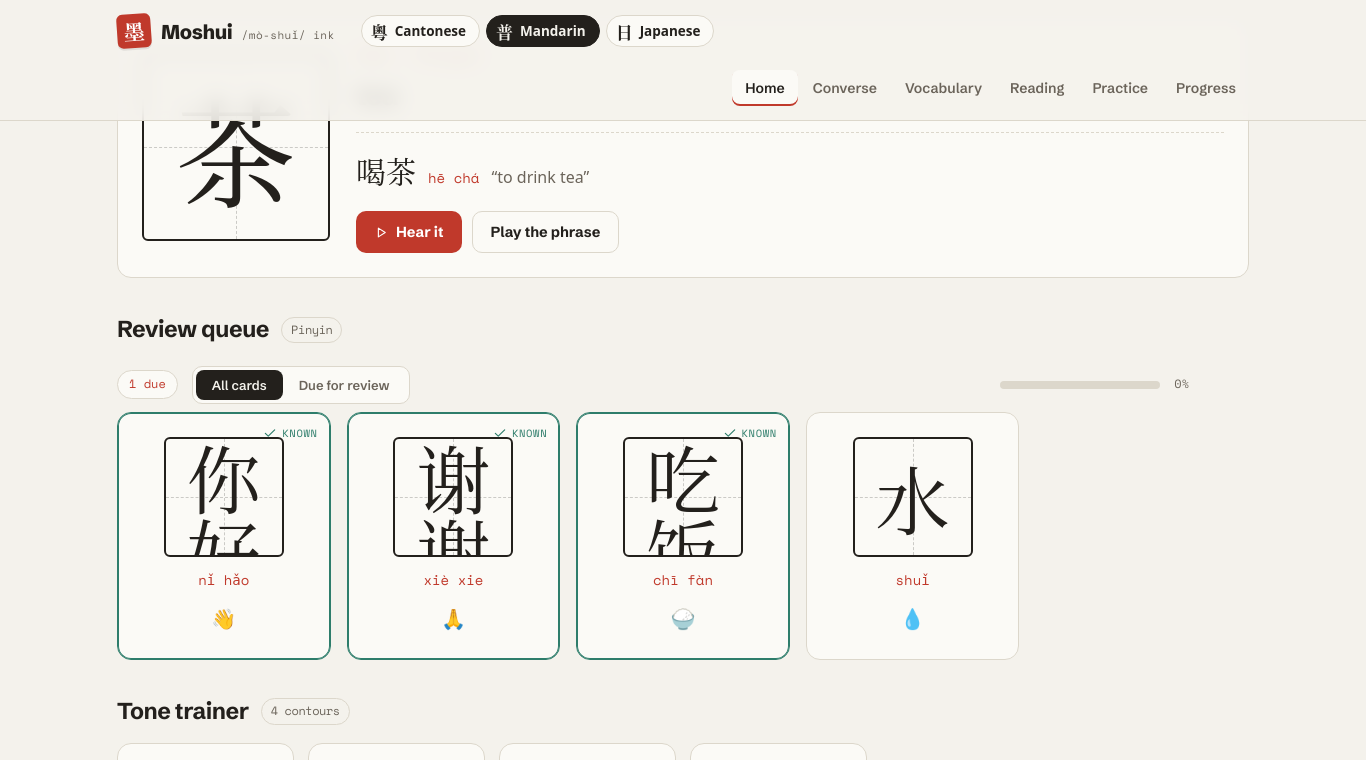
Test case: spaced repetition (T3) › hydrates Leitner boxes and surfaces only due cards in Review mode
(page scrolled)
Check: the text "1 due" is shown, box [117,370,178,399]
Click the button "Due for review".
click(344, 385)  # box [283,370,406,400]
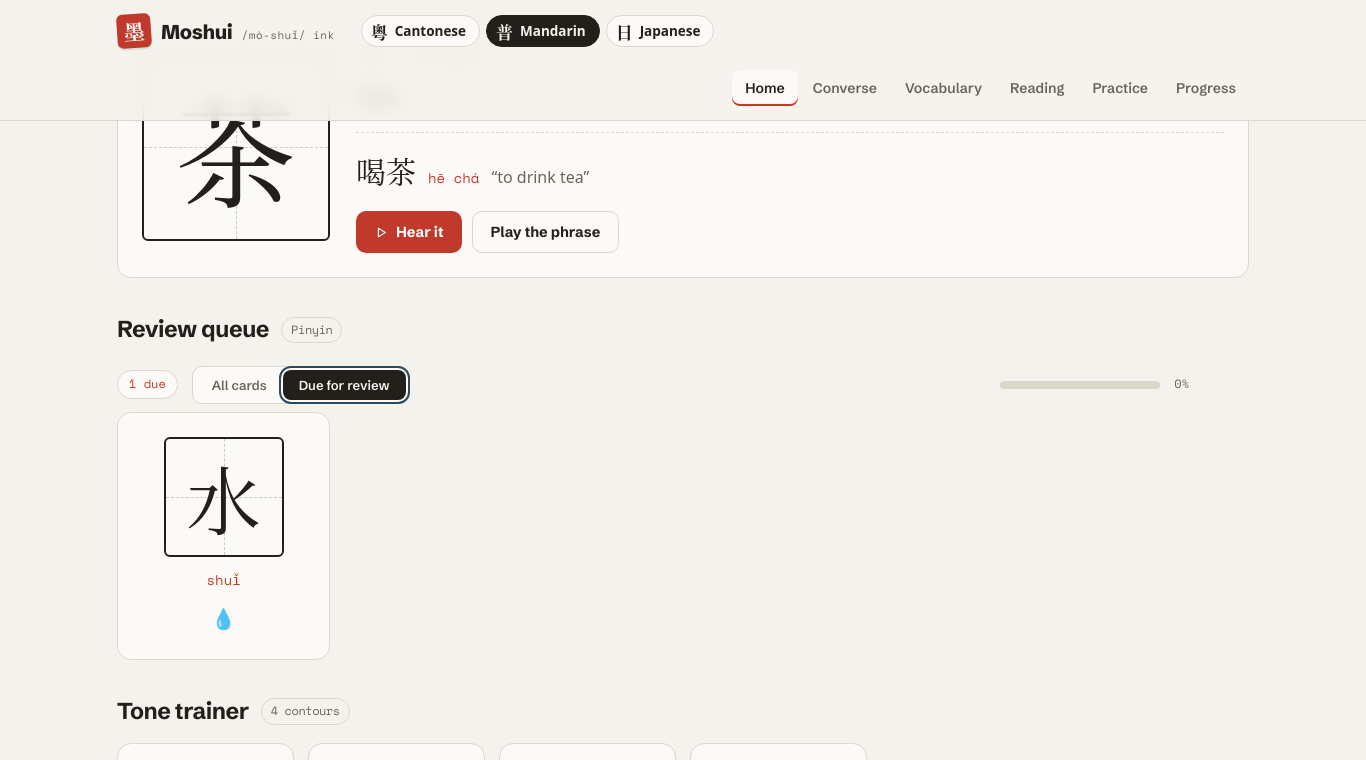
Check: the number of buttons named "Flashcard" is 1, box [117,412,331,660]
